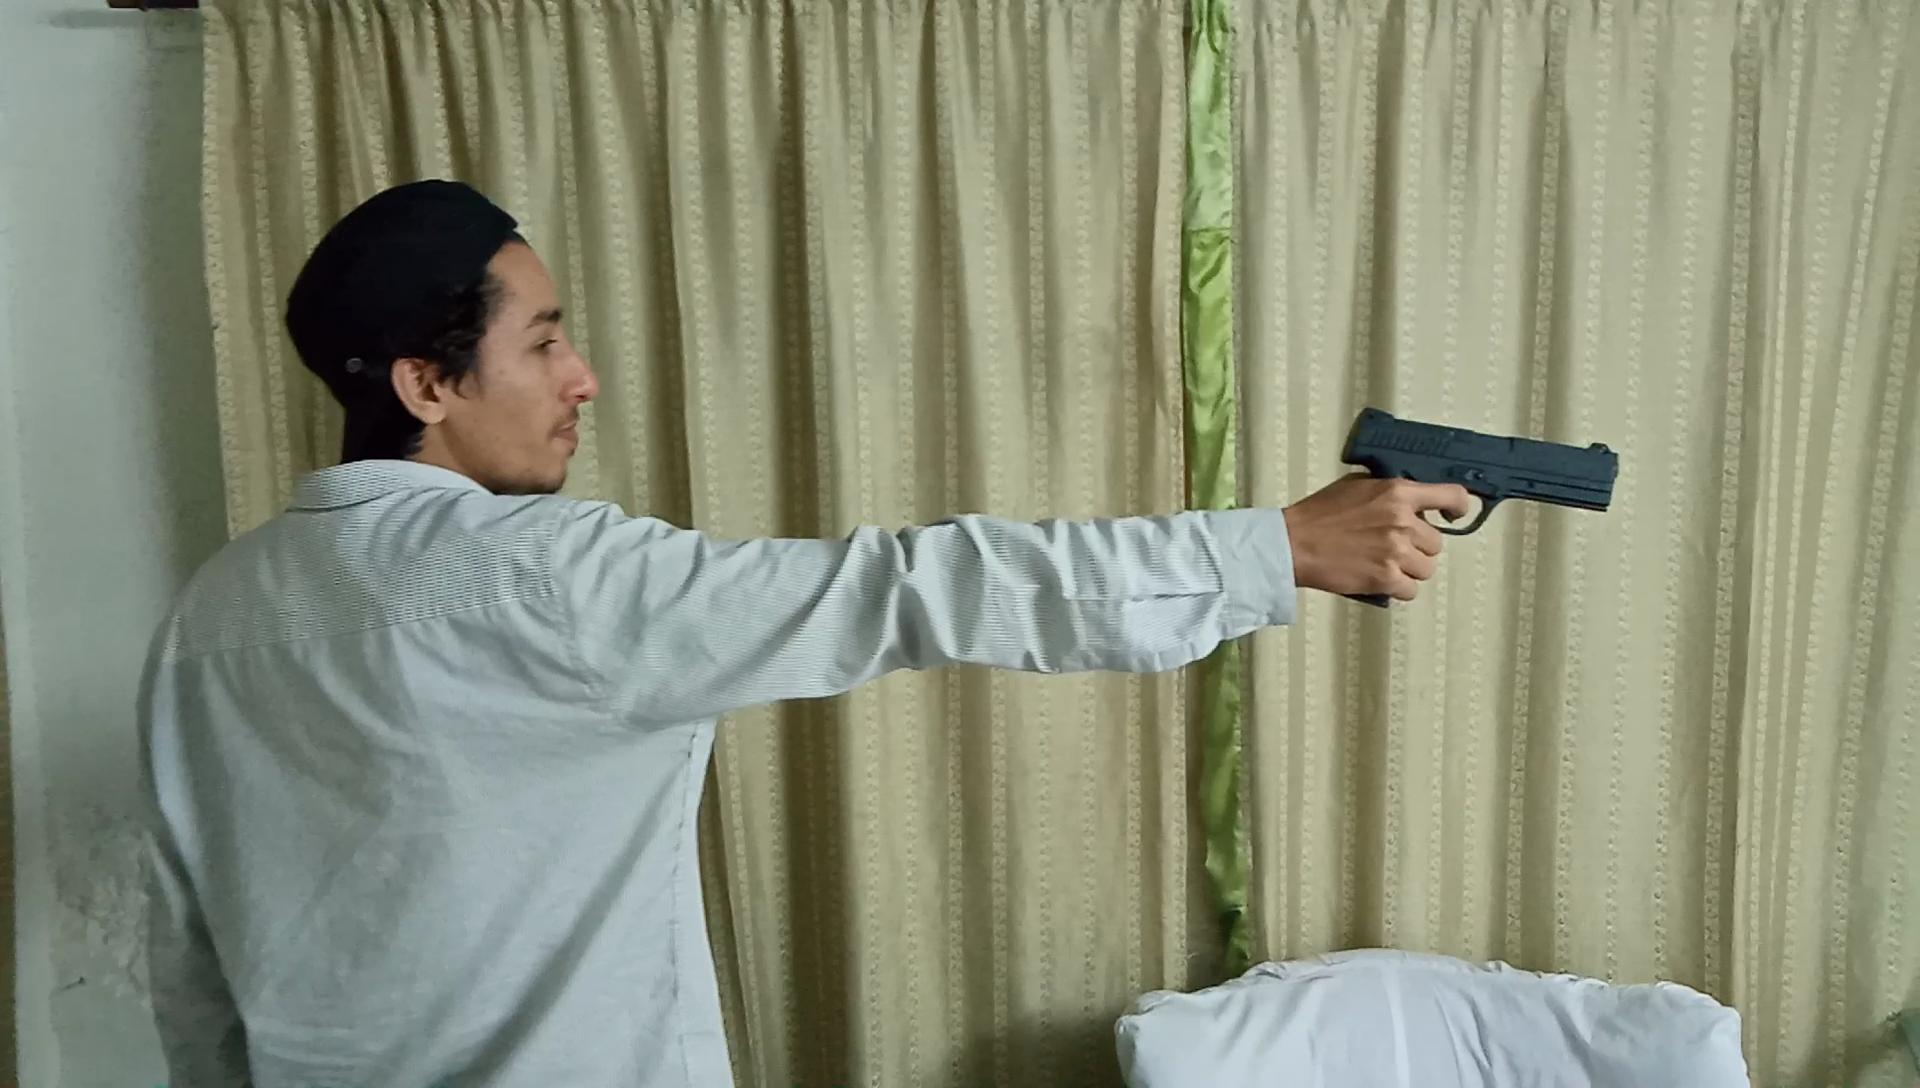criminal: (133, 178, 1629, 1088)
weapon: (1336, 398, 1625, 611)
